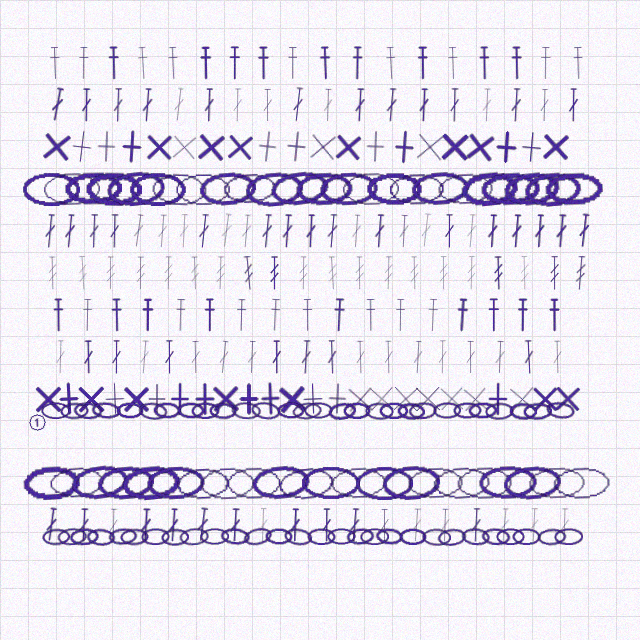chain: (269, 168, 331, 209), (69, 462, 130, 503), (275, 463, 336, 503), (250, 463, 312, 502), (502, 169, 562, 209), (105, 169, 166, 208), (120, 463, 181, 502), (459, 169, 519, 208), (244, 170, 305, 208), (502, 464, 563, 502), (523, 170, 583, 208), (410, 170, 471, 207), (198, 170, 257, 208), (96, 464, 155, 502), (47, 464, 107, 501), (381, 464, 441, 501), (431, 464, 491, 501), (480, 171, 540, 207), (146, 465, 206, 501), (527, 465, 587, 501), (221, 170, 279, 207), (22, 464, 80, 501), (150, 171, 209, 207), (295, 171, 354, 207), (319, 171, 378, 207), (544, 171, 603, 207), (198, 465, 257, 501), (42, 171, 102, 206), (341, 171, 401, 206), (551, 465, 611, 500), (436, 171, 494, 207), (174, 465, 232, 501), (329, 465, 387, 501), (406, 465, 464, 501), (478, 465, 537, 500), (64, 171, 122, 206), (387, 171, 445, 206), (225, 465, 283, 500), (455, 465, 513, 500), (301, 466, 360, 500), (85, 171, 142, 206), (22, 172, 80, 206), (129, 172, 187, 206), (355, 466, 413, 500), (174, 172, 231, 206), (366, 172, 423, 206), (242, 525, 274, 548), (250, 400, 281, 421), (545, 400, 576, 421), (138, 401, 168, 421), (292, 401, 322, 421), (327, 401, 357, 421), (283, 527, 313, 547), (437, 527, 467, 547), (73, 401, 103, 420), (91, 401, 121, 420), (231, 401, 261, 420), (57, 527, 87, 546), (69, 527, 99, 546), (108, 527, 138, 546), (179, 527, 209, 546), (220, 527, 250, 546), (481, 527, 511, 546), (408, 401, 437, 420), (346, 527, 375, 546), (375, 527, 404, 546), (461, 527, 490, 546), (86, 528, 116, 546), (537, 528, 567, 546), (60, 402, 89, 420), (365, 402, 394, 420), (485, 402, 514, 420), (523, 402, 552, 420), (120, 528, 149, 546), (422, 528, 451, 546), (209, 402, 237, 420), (397, 402, 425, 420), (509, 402, 537, 420), (42, 528, 70, 546), (161, 528, 189, 546), (41, 402, 70, 419), (191, 402, 220, 419), (304, 402, 333, 419), (379, 402, 408, 419), (453, 402, 482, 419), (468, 402, 497, 419), (141, 528, 170, 545), (200, 528, 229, 545), (307, 528, 336, 545), (327, 528, 356, 545), (360, 528, 389, 545), (496, 528, 525, 545), (512, 528, 541, 545), (554, 528, 583, 545), (116, 402, 144, 419), (153, 402, 181, 419), (177, 402, 205, 419), (277, 402, 305, 419), (343, 402, 371, 419), (433, 402, 461, 419), (265, 528, 293, 545), (399, 528, 427, 545)
double: (49, 87, 66, 122), (131, 213, 146, 248), (219, 213, 234, 248), (44, 507, 59, 542), (195, 507, 210, 542), (172, 87, 186, 122), (291, 87, 305, 122), (419, 213, 433, 248), (577, 213, 591, 248), (43, 214, 57, 248), (63, 214, 77, 248), (197, 214, 211, 248), (260, 214, 274, 248), (217, 340, 231, 374), (141, 88, 154, 122), (385, 88, 398, 122), (156, 214, 169, 248), (240, 214, 253, 248), (281, 214, 294, 248), (326, 214, 339, 248), (350, 214, 363, 248), (373, 214, 386, 248), (465, 214, 478, 248), (486, 214, 499, 248), (510, 214, 523, 248), (533, 214, 546, 248), (555, 214, 568, 248), (138, 340, 151, 374), (167, 508, 180, 542), (348, 508, 361, 542), (410, 508, 423, 542), (498, 508, 511, 542), (112, 88, 124, 122), (203, 88, 215, 122), (322, 88, 334, 122), (354, 88, 366, 122), (418, 88, 430, 122), (481, 88, 493, 122), (510, 88, 522, 122), (88, 214, 100, 248), (178, 214, 190, 248), (305, 214, 317, 248), (398, 214, 410, 248), (246, 340, 258, 374), (300, 340, 312, 374), (326, 340, 338, 374), (412, 340, 424, 374), (494, 340, 506, 374), (523, 340, 535, 374), (78, 508, 90, 542), (140, 508, 152, 542), (229, 508, 241, 542), (257, 508, 269, 542), (289, 508, 301, 542), (439, 508, 451, 542), (470, 508, 482, 542), (528, 508, 540, 542), (81, 88, 92, 122), (232, 88, 243, 122), (262, 88, 273, 122), (449, 88, 460, 122), (539, 88, 550, 122), (568, 88, 579, 122), (109, 214, 120, 248), (444, 214, 455, 248), (55, 340, 66, 374), (83, 340, 94, 374), (111, 340, 122, 374), (164, 340, 175, 374), (190, 340, 201, 374), (271, 340, 282, 374), (355, 340, 366, 374), (383, 340, 394, 374), (437, 340, 448, 374), (465, 340, 476, 374), (552, 340, 563, 374), (108, 508, 119, 542), (321, 508, 332, 542), (379, 508, 390, 542), (559, 508, 570, 542)
half_double: (455, 298, 470, 332), (48, 46, 62, 80), (136, 46, 150, 80), (166, 46, 180, 80), (318, 46, 332, 80), (384, 46, 398, 80), (446, 46, 460, 80), (571, 46, 585, 80), (268, 298, 282, 332), (332, 298, 346, 332), (426, 298, 440, 332), (77, 46, 90, 80), (107, 46, 120, 80), (199, 46, 212, 80), (228, 46, 241, 80), (257, 46, 270, 80), (286, 46, 299, 80), (351, 46, 364, 80), (416, 46, 429, 80), (478, 46, 491, 80), (510, 46, 523, 80), (539, 46, 552, 80), (52, 298, 65, 332), (81, 298, 94, 332), (110, 298, 123, 332), (141, 298, 154, 332), (174, 298, 187, 332), (203, 298, 216, 332), (235, 298, 248, 332), (301, 298, 314, 332), (364, 298, 377, 332), (394, 298, 407, 332), (487, 298, 500, 332), (516, 298, 529, 332), (548, 298, 561, 332)
noise: (27, 412, 48, 433)
single: (461, 128, 499, 166), (38, 128, 75, 165), (63, 128, 100, 165), (249, 128, 286, 165), (278, 128, 315, 165), (304, 128, 341, 165), (411, 128, 448, 165), (166, 129, 202, 165), (193, 129, 229, 165), (222, 129, 258, 165), (330, 129, 366, 165), (386, 129, 422, 165), (488, 129, 524, 165), (513, 129, 549, 165), (274, 381, 310, 417), (342, 381, 378, 417), (457, 381, 493, 417), (504, 381, 540, 417), (89, 129, 124, 164), (114, 129, 149, 164), (358, 129, 393, 164), (437, 129, 472, 164), (538, 129, 573, 164), (51, 381, 86, 416), (97, 381, 132, 416), (208, 381, 243, 416), (253, 381, 288, 416), (295, 381, 330, 416), (320, 381, 355, 416), (364, 381, 399, 416), (388, 381, 423, 416), (410, 381, 445, 416), (434, 381, 469, 416), (550, 381, 585, 416), (142, 130, 176, 164), (31, 382, 65, 416), (74, 382, 108, 416), (119, 382, 153, 416), (140, 382, 174, 416), (163, 382, 197, 416), (188, 382, 222, 416), (232, 382, 266, 416), (481, 382, 515, 416), (528, 382, 562, 416)
treble: (242, 256, 255, 290), (326, 256, 339, 290), (574, 256, 587, 290), (77, 256, 89, 290), (189, 256, 201, 290), (47, 256, 58, 290), (105, 256, 116, 290), (135, 256, 146, 290), (163, 256, 174, 290), (215, 256, 226, 290), (269, 256, 280, 290), (298, 256, 309, 290), (354, 256, 365, 290), (383, 256, 394, 290), (409, 256, 420, 290), (438, 256, 449, 290), (466, 256, 477, 290), (493, 256, 504, 290), (519, 256, 530, 290), (549, 256, 560, 290)
